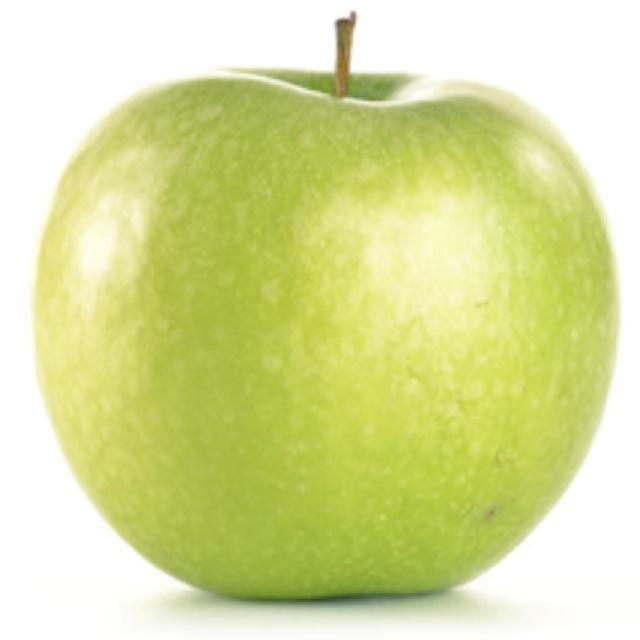Apple: (31, 10, 620, 602)
